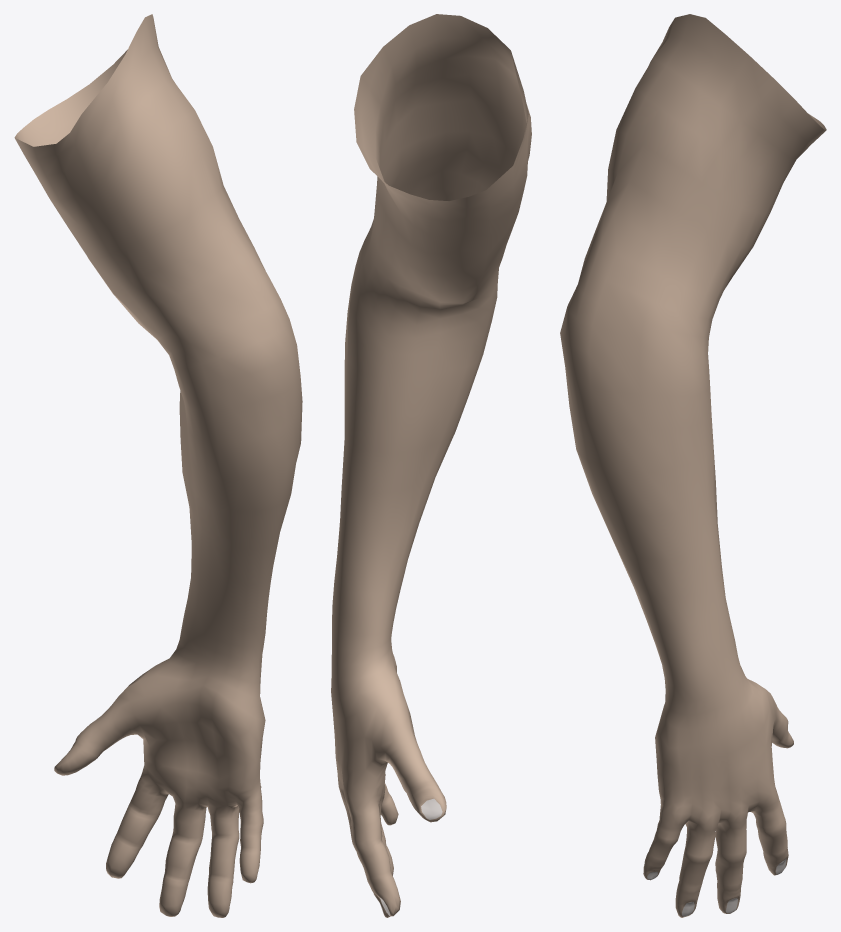
The model's file is Hand_Right.fbx.
The picture shows the model from 3 angles, left to right: view 1: azimuth 30°, elevation 25°; view 2: azimuth 150°, elevation 25°; view 3: azimuth 270°, elevation 25°; orthographic projection. The views are drawn at different scales.
Visible parts, largest first — view 1: basicRig:Body; view 2: basicRig:Body; view 3: basicRig:Body.
Part boxes in pixels (<box>): basicRig:Body: <box>14,14,302,917</box>; basicRig:Body: <box>331,14,531,917</box>; basicRig:Body: <box>560,14,826,917</box>.
Size of the model in its own units: 89.08 by 372 by 102.
